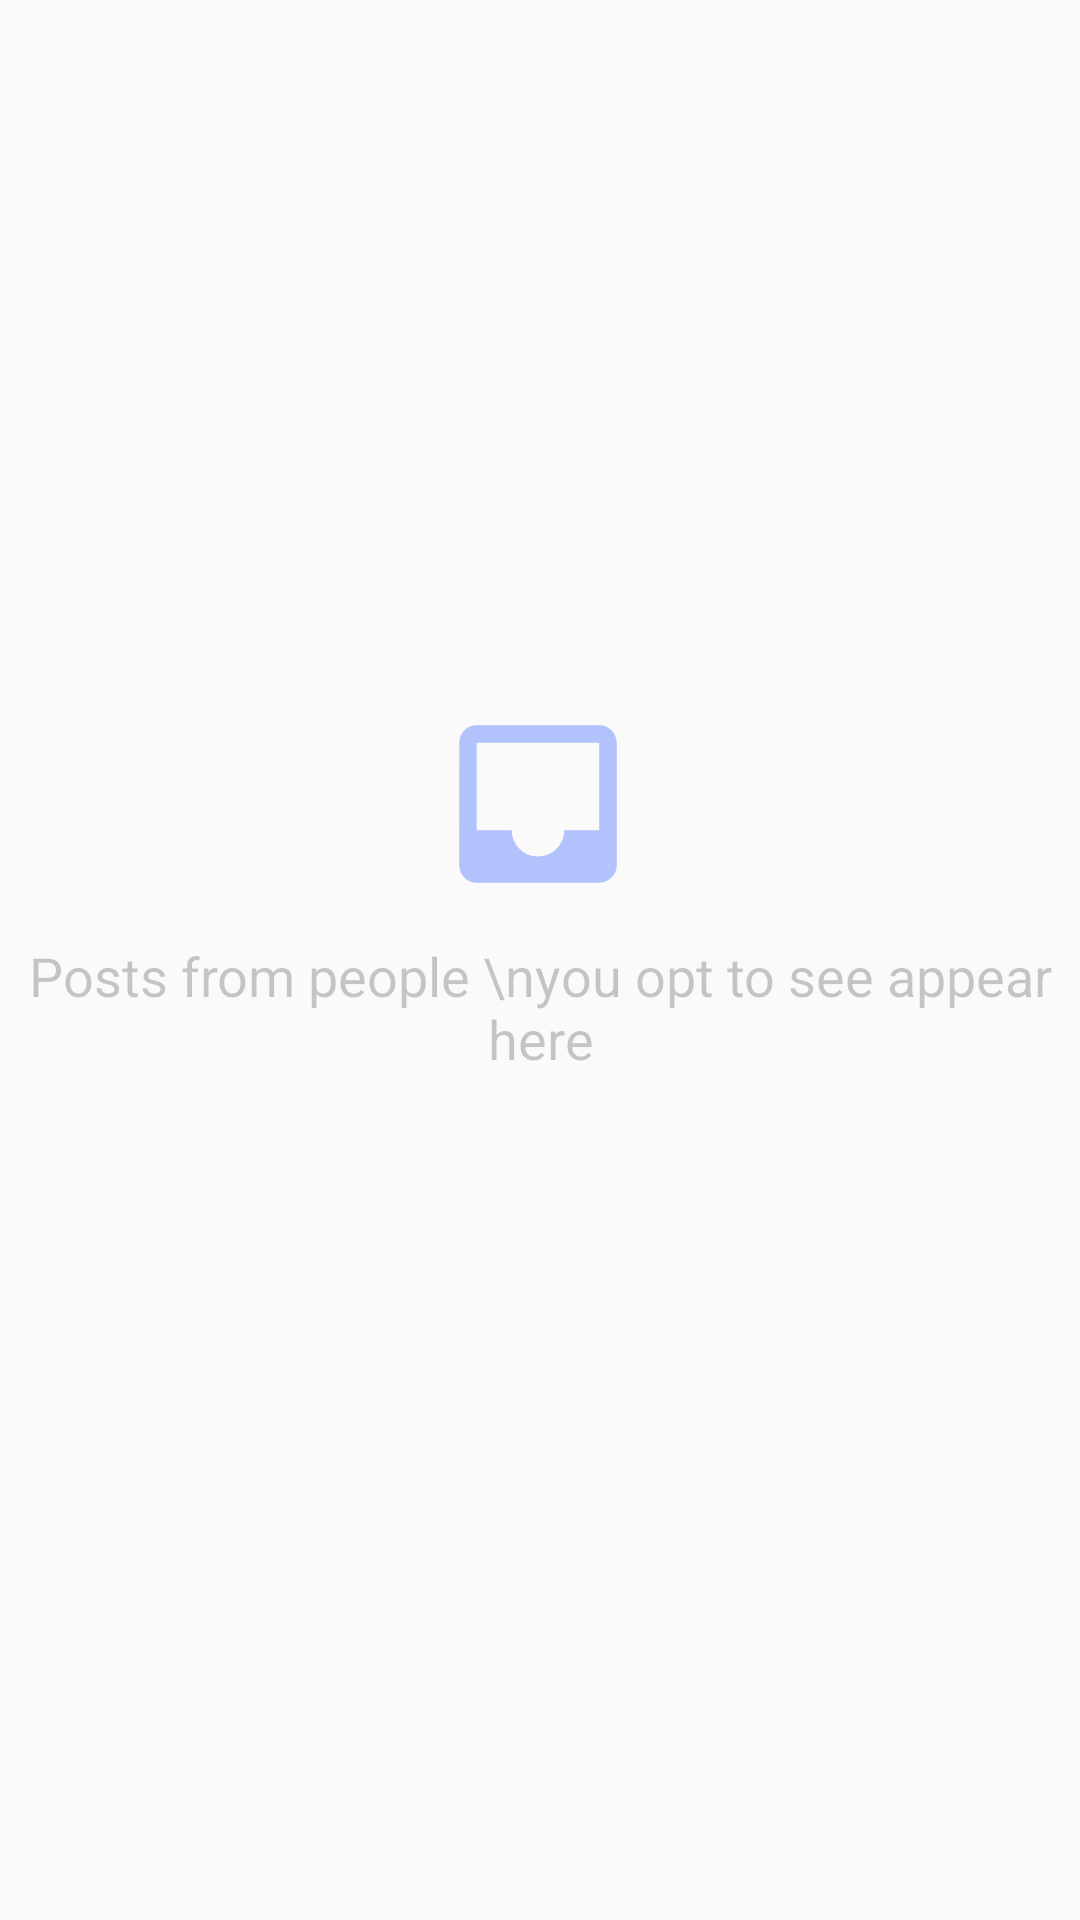

Where icons sit on this 1080×1920 app screen, as (x1, y1, x2, y2):
inbox: (459, 725, 617, 883)
